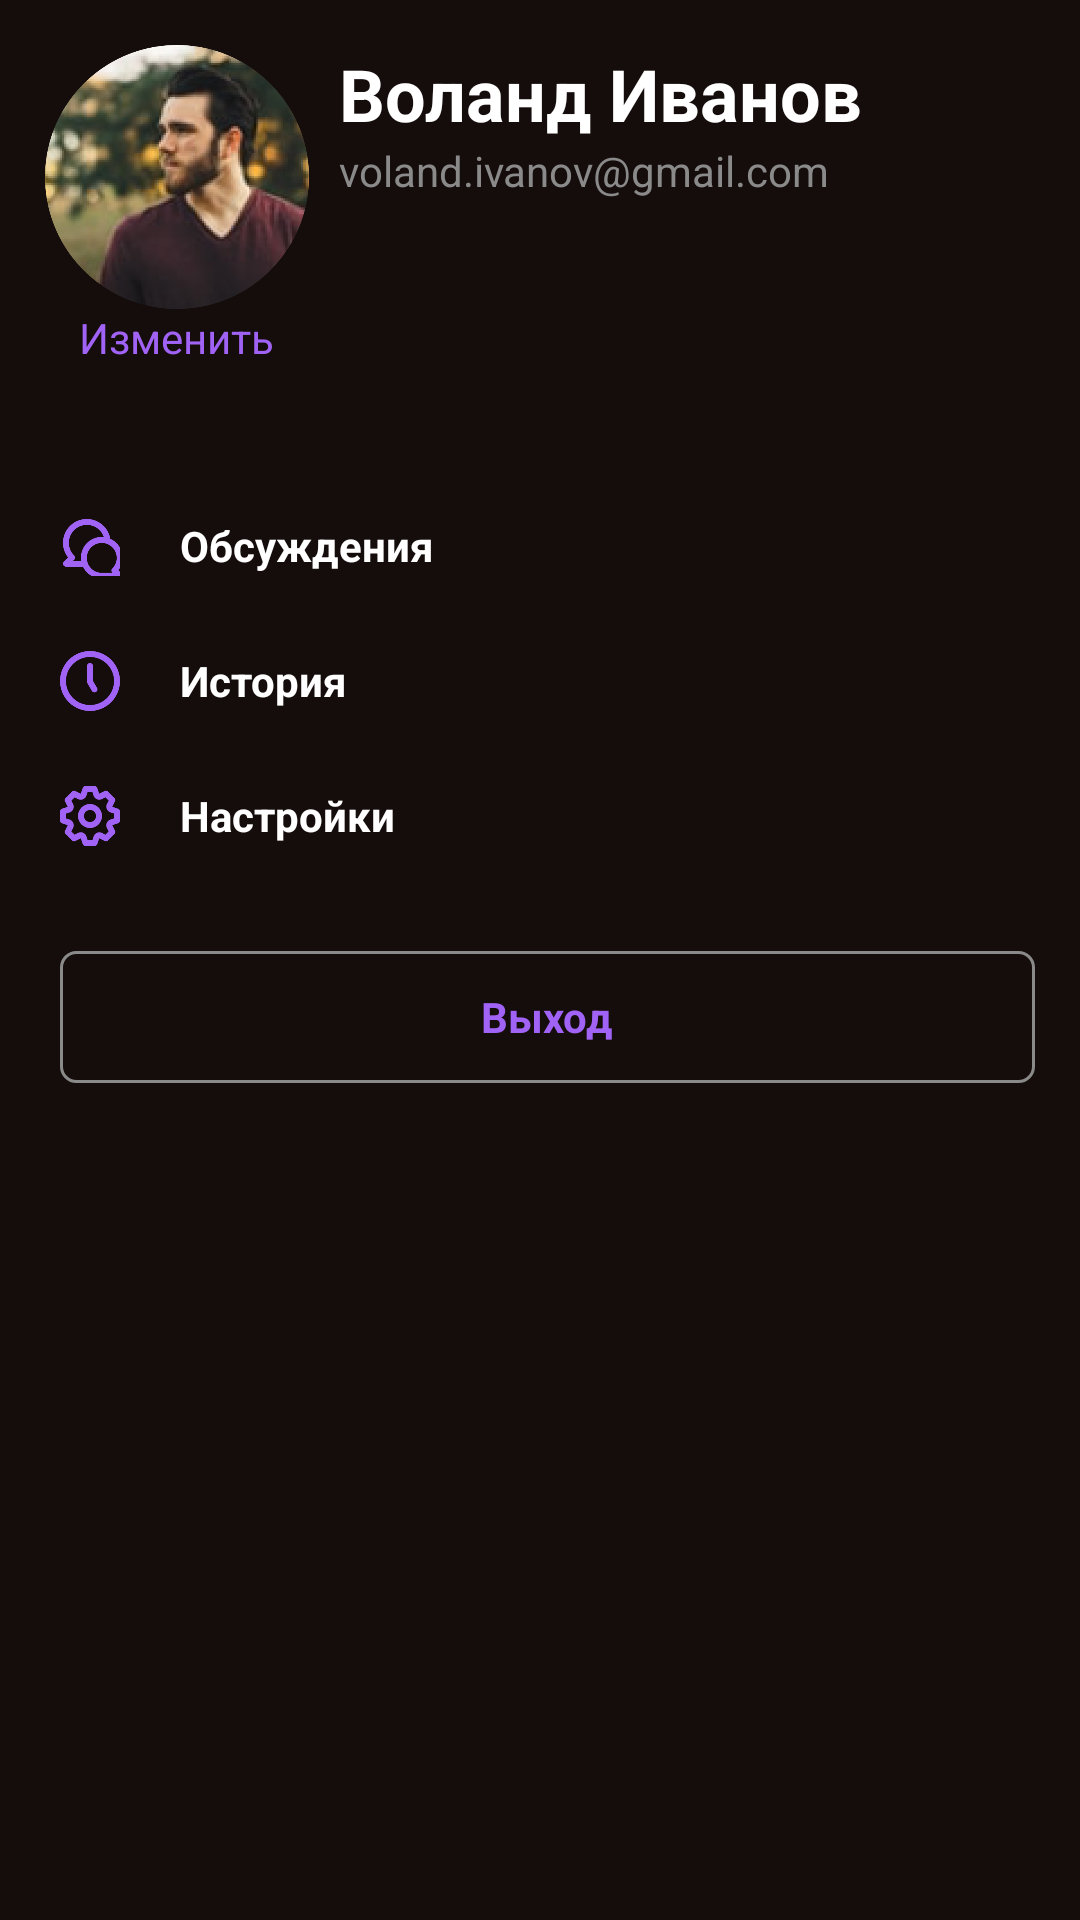

Named icons in this screenshot (1080 × 1920) and their bounding boxes, (x1, y1, x2, y2):
chel: (45, 45, 309, 309)
